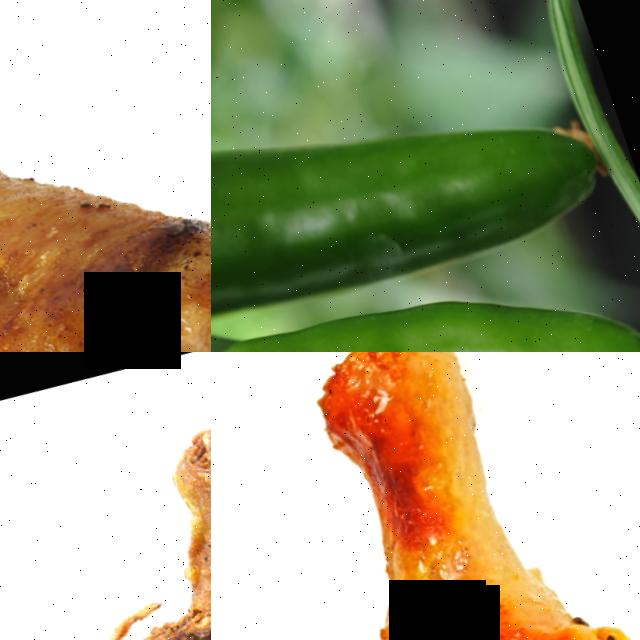chicken thigh: (220, 352, 640, 640), (0, 0, 211, 352), (41, 373, 211, 640)
chilli: (211, 7, 615, 352), (211, 203, 640, 352)
